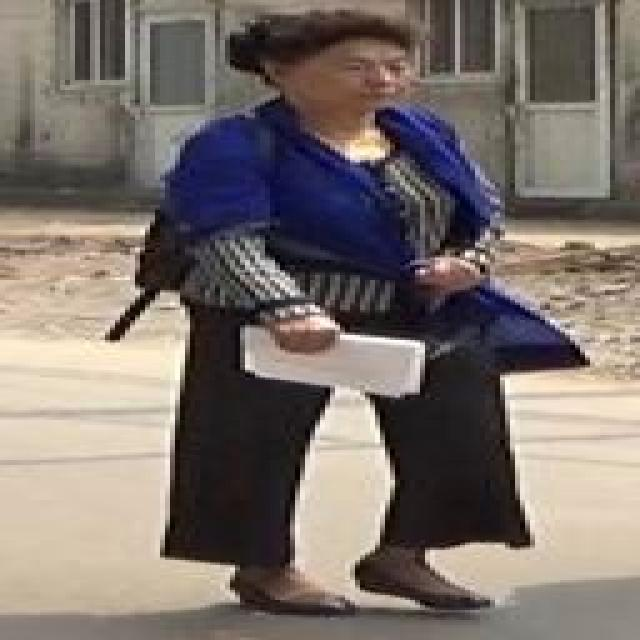adult: (148, 1, 585, 622)
